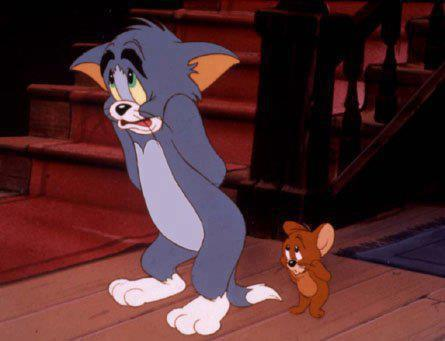tom: (66, 14, 284, 336)
